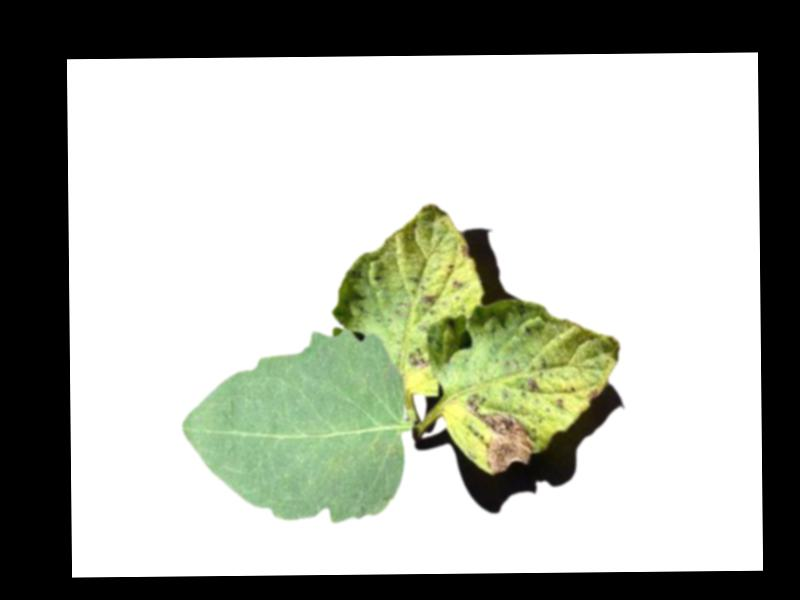Early_blight: (464, 390, 535, 475), (406, 345, 428, 371), (582, 386, 599, 403), (527, 374, 538, 389), (418, 292, 434, 302), (459, 241, 468, 256), (450, 279, 461, 290)
